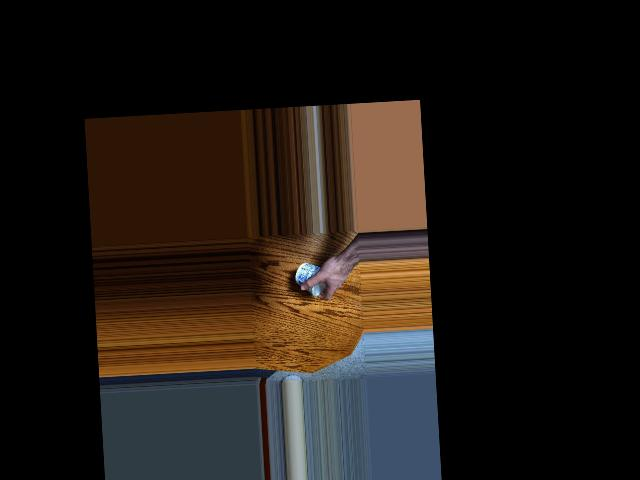cotage: (293, 258, 325, 299)
